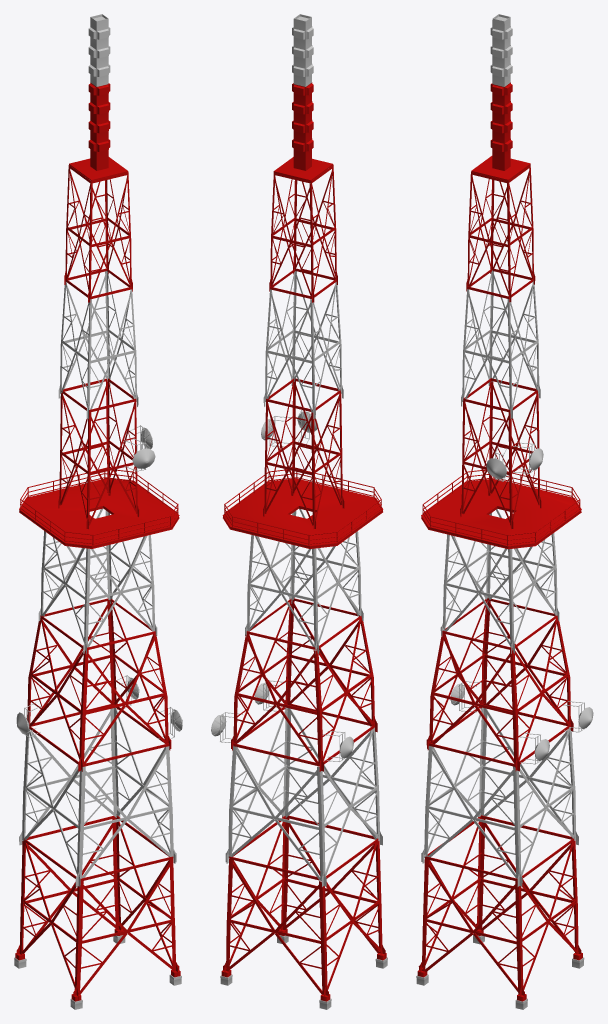
3 views of the same model, side by side, from view 1: azimuth 30°, elevation 25°; view 2: azimuth 150°, elevation 25°; view 3: azimuth 330°, elevation 25° (orthographic).
Visible parts, largest first — view 1: SM_RadioTower; view 2: SM_RadioTower; view 3: SM_RadioTower.
Part boxes in pixels (x1,y1,x2,y2): SM_RadioTower: (14,14,182,1009); SM_RadioTower: (211,14,387,1009); SM_RadioTower: (416,14,593,1009).
Bounding box in the file's own units: 1612 × 11324 × 1419.
